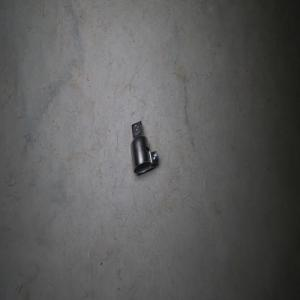MetalPart: (130, 120, 159, 174)
